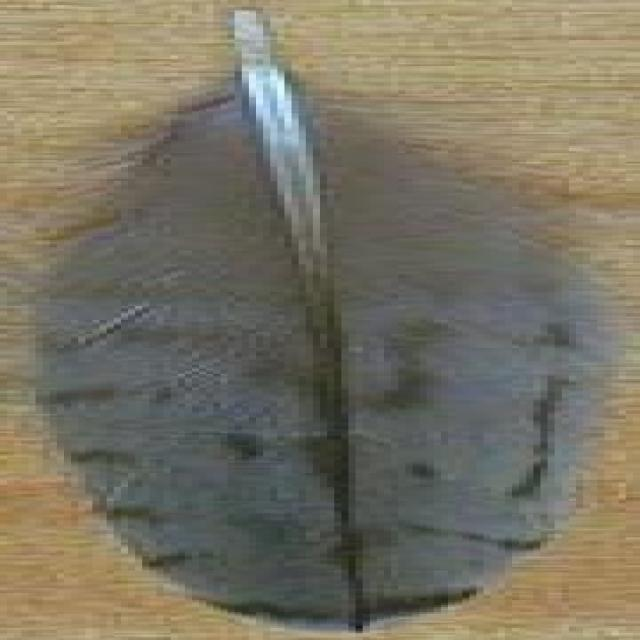feather: (6, 7, 604, 636)
